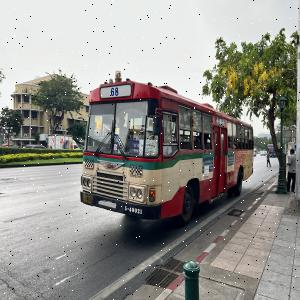BMTA-bus: (79, 72, 254, 226)
Bus Line Number: (109, 87, 120, 96)
Bus Side Number: (121, 203, 144, 217)
Destination Sign: (128, 139, 140, 154)
